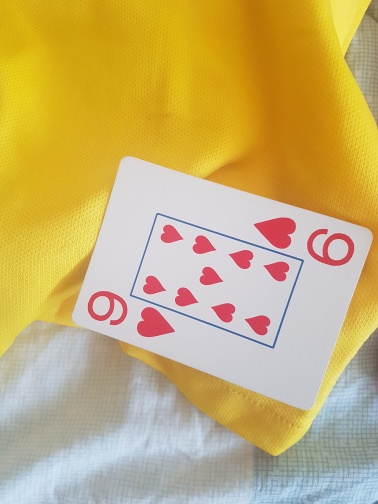nine: (71, 155, 370, 409)
